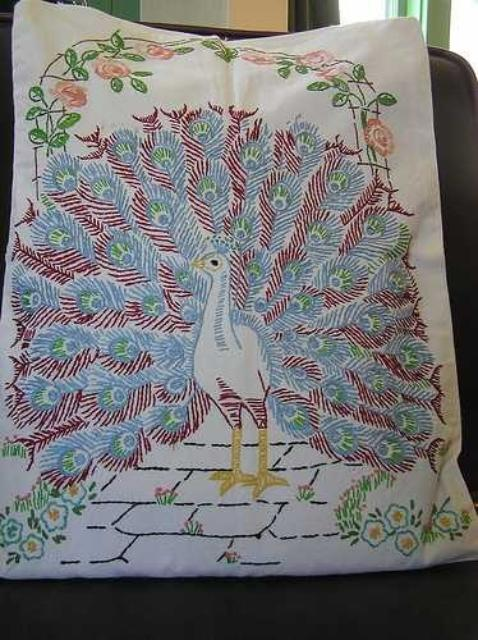pillow: (0, 1, 478, 582)
